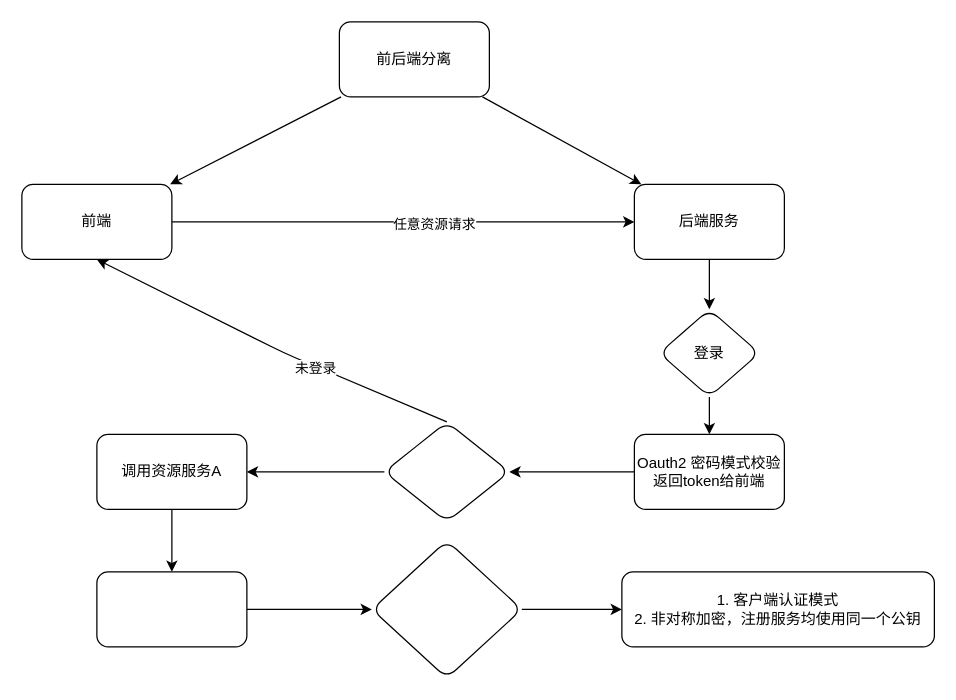
Image size: 956x700. Some labels were removed from this diagram. Each missing label, with the box of its shape:
校验授权服务器签发的Secret: (371, 539, 522, 678)
网关token校验: (383, 421, 509, 522)
远程调用其他资源: (96, 571, 247, 647)
